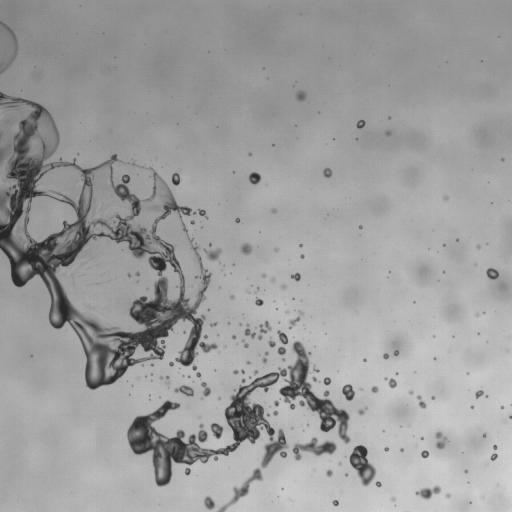droplet: (244, 321, 271, 339), (435, 431, 447, 449), (204, 248, 221, 260), (342, 384, 354, 401), (277, 330, 287, 345), (204, 496, 215, 509), (249, 172, 260, 184), (240, 243, 251, 255), (486, 268, 498, 279), (201, 382, 210, 396), (171, 172, 180, 185), (296, 91, 306, 101), (386, 378, 396, 388), (323, 168, 332, 177), (277, 346, 286, 355), (356, 120, 365, 128), (291, 273, 300, 281), (255, 297, 263, 306), (268, 337, 275, 347), (421, 450, 429, 458), (323, 377, 330, 385), (475, 390, 483, 397), (371, 386, 378, 393), (490, 453, 497, 460), (242, 339, 248, 347), (326, 469, 332, 476), (332, 500, 338, 506), (312, 377, 319, 382), (196, 372, 201, 378), (281, 284, 286, 289), (394, 350, 399, 355), (383, 353, 388, 358), (253, 370, 258, 375), (376, 481, 381, 486), (445, 493, 450, 498), (210, 322, 216, 326), (385, 131, 390, 135), (443, 196, 448, 200), (272, 208, 276, 213), (127, 272, 131, 277), (230, 294, 234, 299), (233, 370, 238, 374), (273, 411, 278, 415), (384, 447, 389, 451), (235, 218, 239, 222), (262, 273, 266, 277), (232, 335, 236, 339), (169, 362, 173, 366), (409, 390, 413, 394), (493, 445, 497, 449), (391, 497, 395, 501), (191, 220, 194, 224), (476, 245, 480, 248), (300, 255, 304, 258), (136, 272, 139, 276), (271, 278, 274, 282), (87, 305, 91, 308), (464, 470, 468, 473), (509, 414, 511, 419), (359, 225, 362, 228), (241, 370, 244, 373), (431, 396, 434, 399), (470, 405, 473, 408), (248, 153, 251, 155), (275, 248, 277, 251), (286, 310, 288, 313), (476, 313, 478, 316), (282, 358, 284, 361), (247, 361, 249, 364), (160, 376, 162, 379), (500, 406, 503, 408), (400, 449, 403, 451), (338, 462, 341, 464), (345, 473, 347, 476), (299, 244, 301, 246), (255, 290, 257, 292), (151, 364, 153, 366), (483, 433, 485, 435)
ligament: (0, 91, 217, 389), (127, 341, 349, 511), (348, 445, 376, 486), (292, 437, 337, 460), (0, 21, 17, 73), (415, 485, 441, 499), (288, 311, 303, 328), (174, 385, 193, 396), (417, 395, 426, 408), (125, 162, 142, 168), (358, 407, 367, 415), (262, 352, 268, 363), (166, 376, 169, 385), (0, 132, 2, 139)
